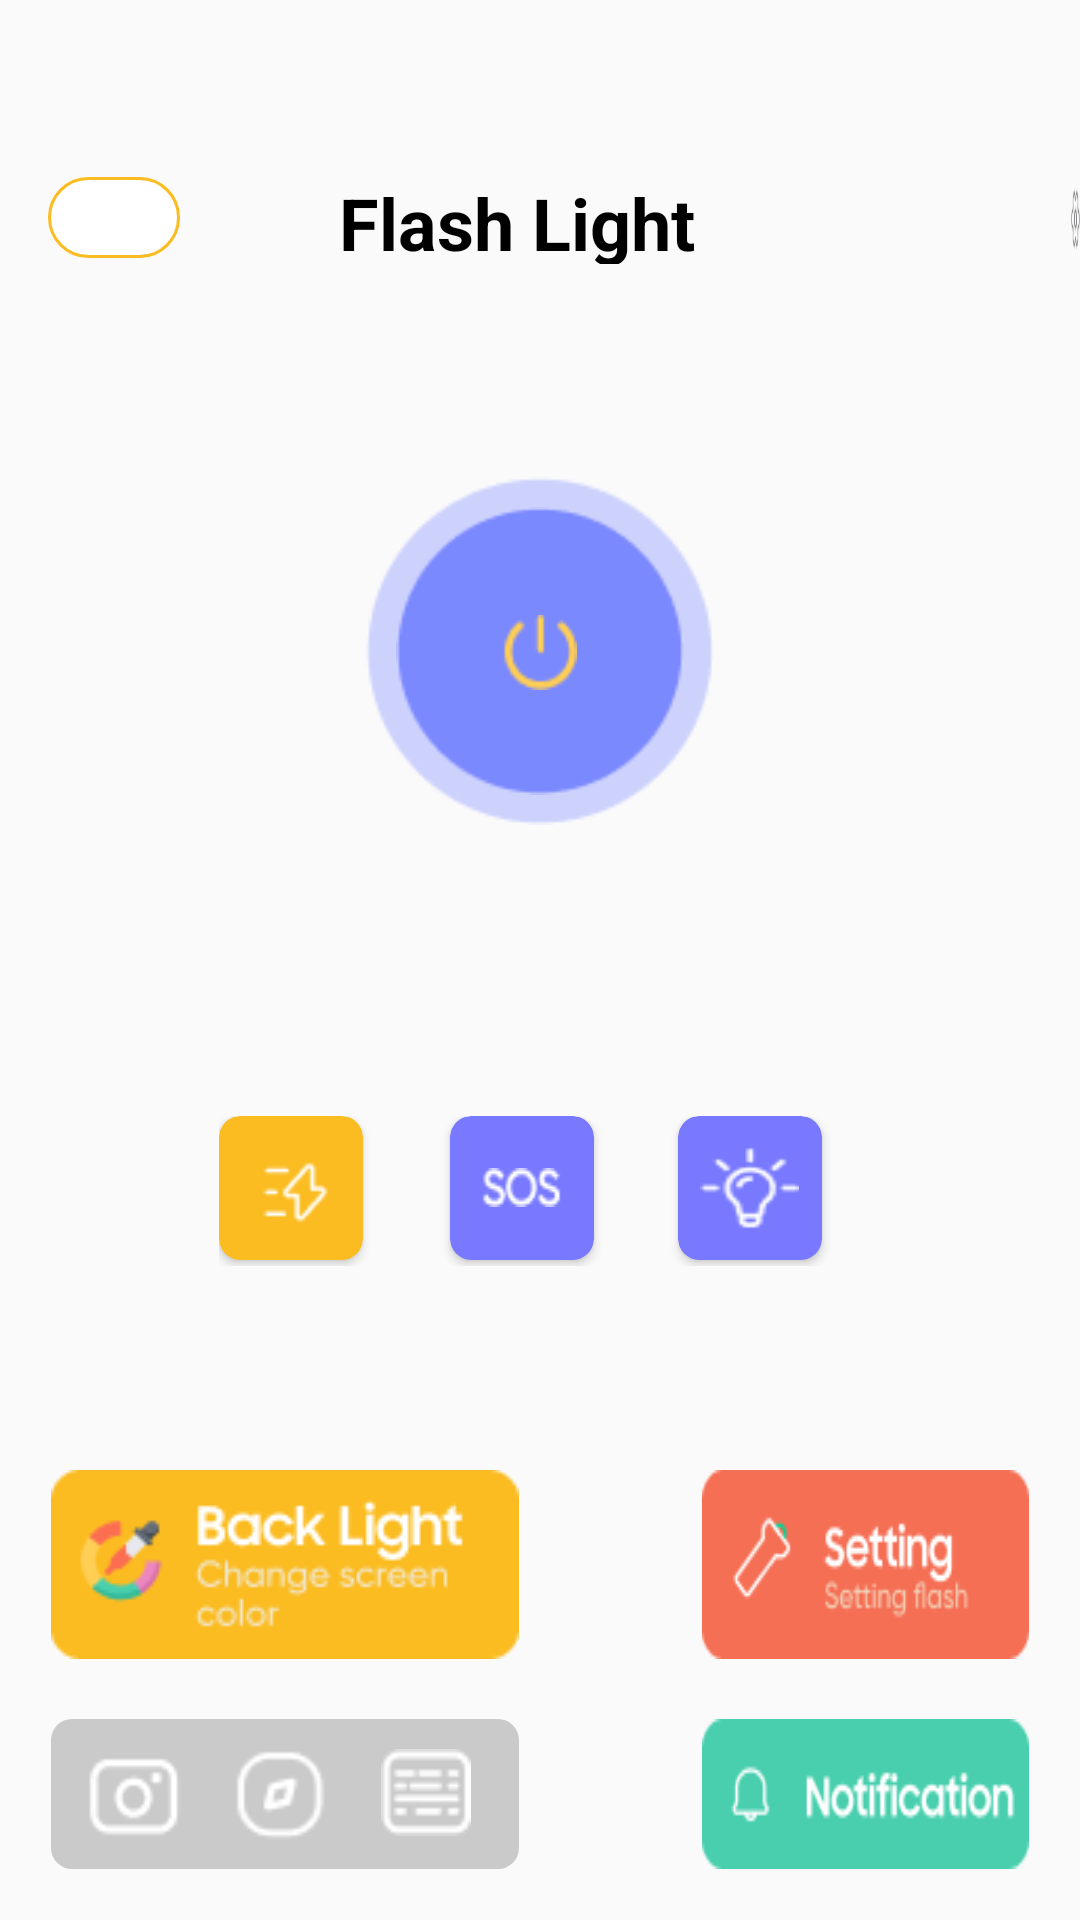

Where to tap for icons on this 1080×1920 app screen, as (x,y):
camera: (133,1796)
compass: (280,1794)
flash: (295,1192)
poweroff: (540,652)
